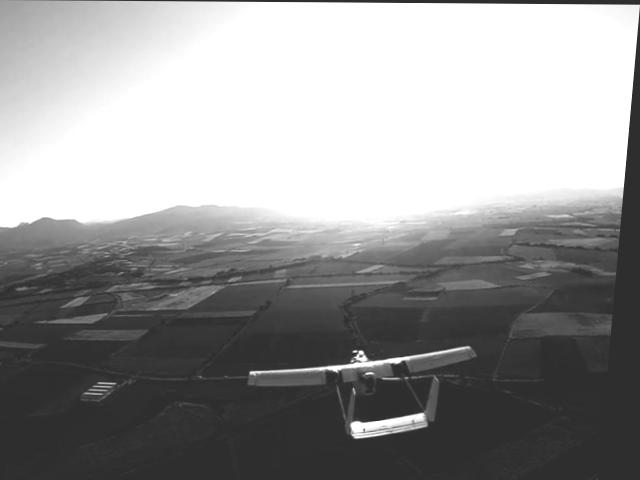hedef: (247, 329, 491, 450)
